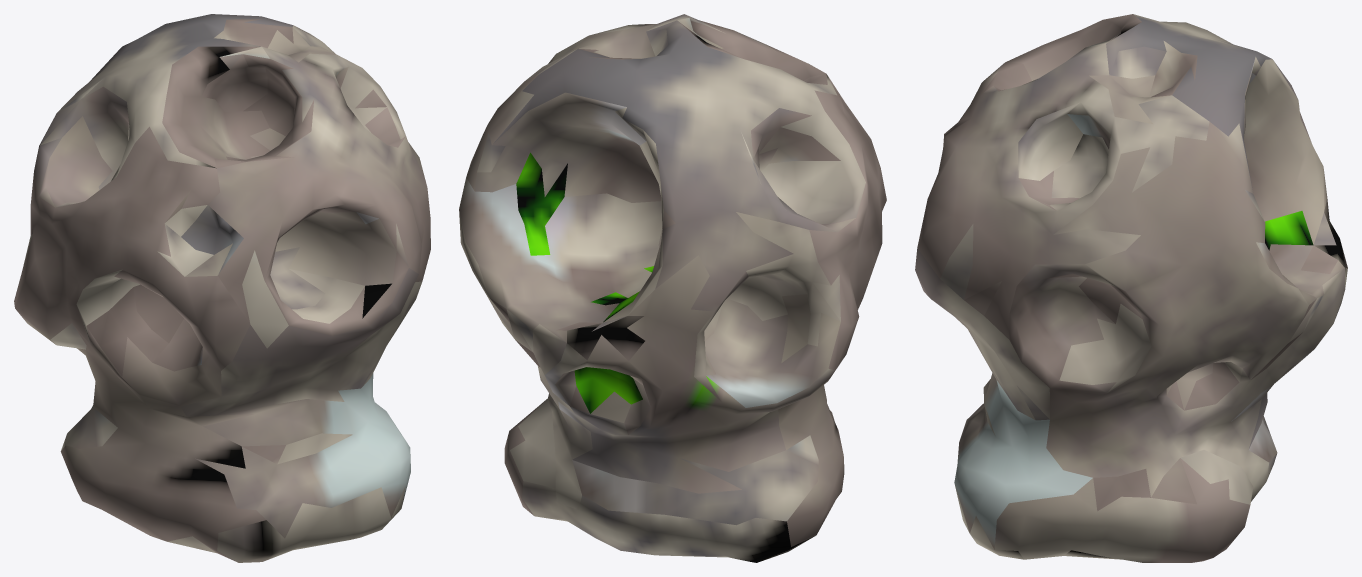
The model's file is Structure-4.fbx.
The picture shows the model from 3 angles, left to right: view 1: azimuth 30°, elevation 25°; view 2: azimuth 150°, elevation 25°; view 3: azimuth 270°, elevation 25°; orthographic projection. The views are drawn at different scales.
Visible parts, largest first — view 1: Structure-4; view 2: Structure-4; view 3: Structure-4.
Part boxes in pixels (<box>): Structure-4: <box>14,14,430,562</box>; Structure-4: <box>459,14,886,562</box>; Structure-4: <box>915,14,1347,562</box>.
Bounding box in the file's own units: 3.02 × 3.9 × 3.02.
